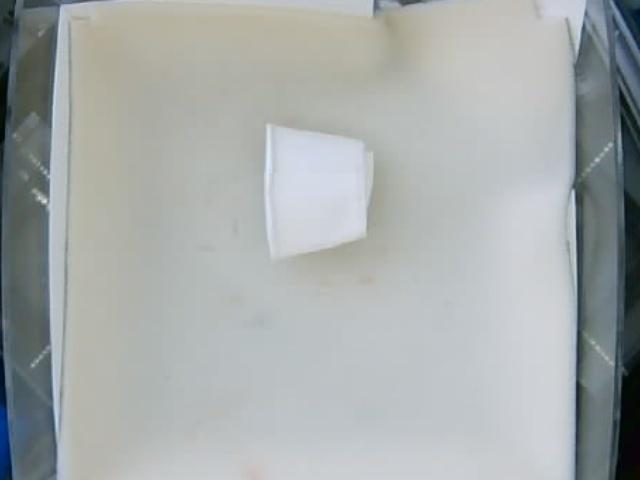Cup: (262, 120, 372, 259)
